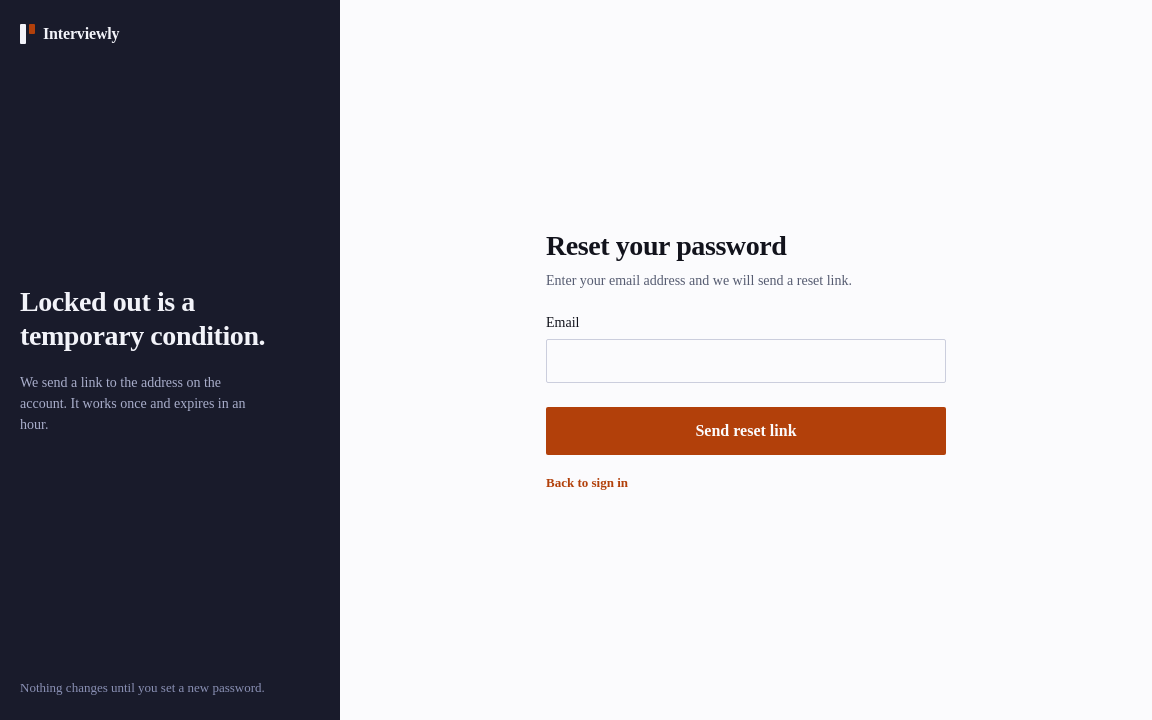
Test: forgot-password page › posts the address and confirms without saying whether an account exists
This screenshot has width=1152, height=720.
Type "known@example.com" into the field labelled "Email" at (746, 360), box [546, 338, 946, 382]
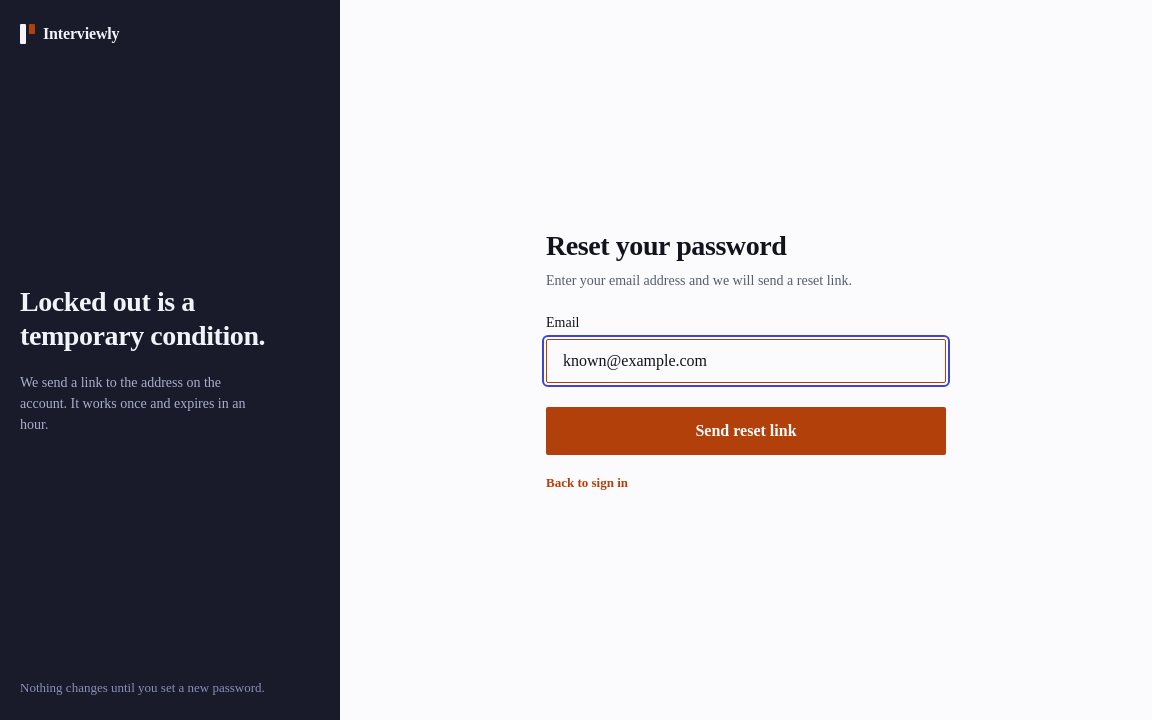
Click the button "Send reset link" at (746, 430), box [546, 406, 946, 454]
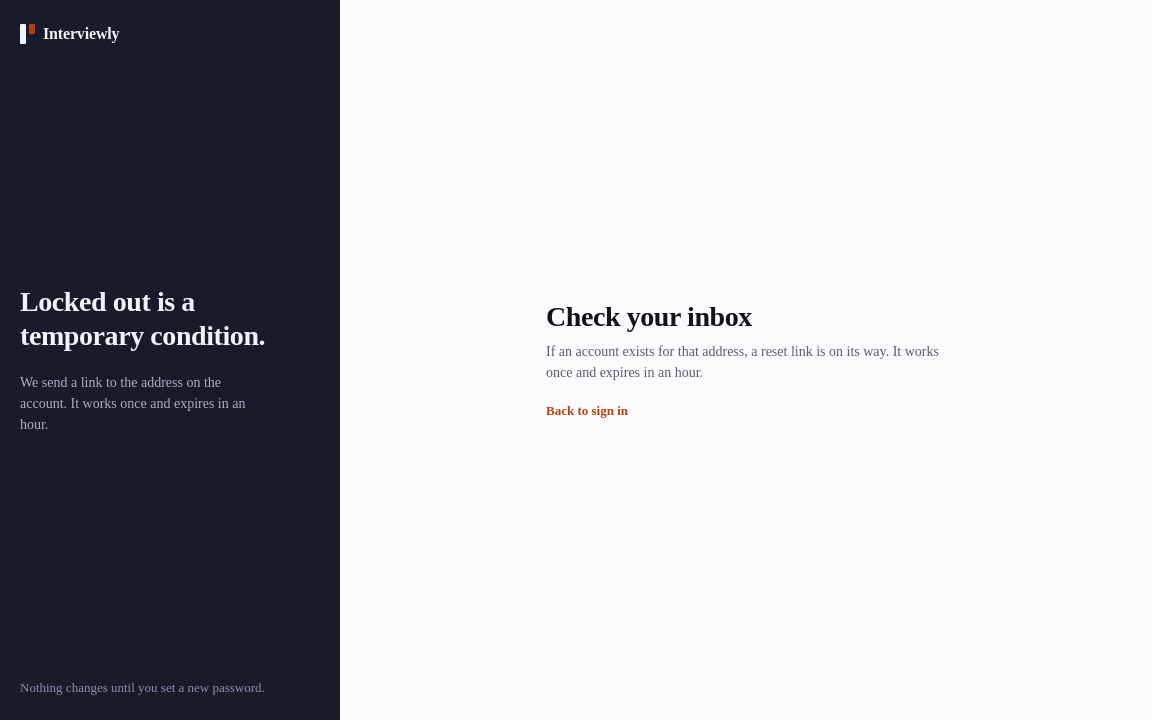
expect the text "If an account exists for that address, a reset link is on its way. It works once and expires in an hour." is shown: met, box [546, 344, 939, 380]
